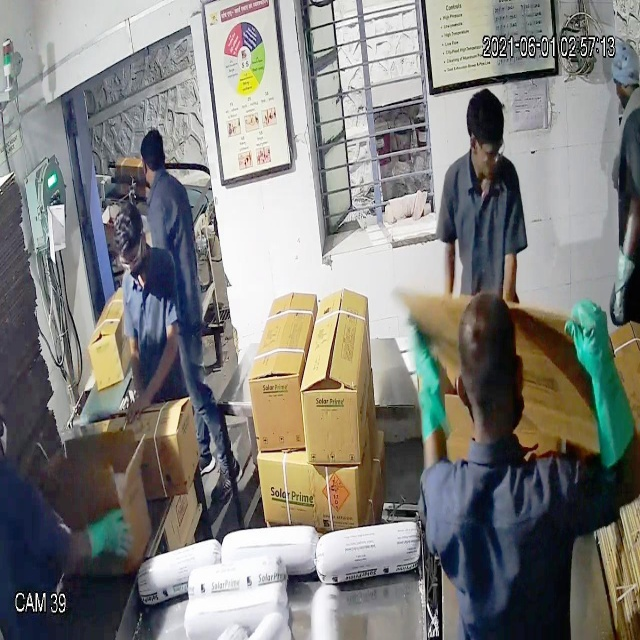Gafas: (116, 241, 147, 275)
